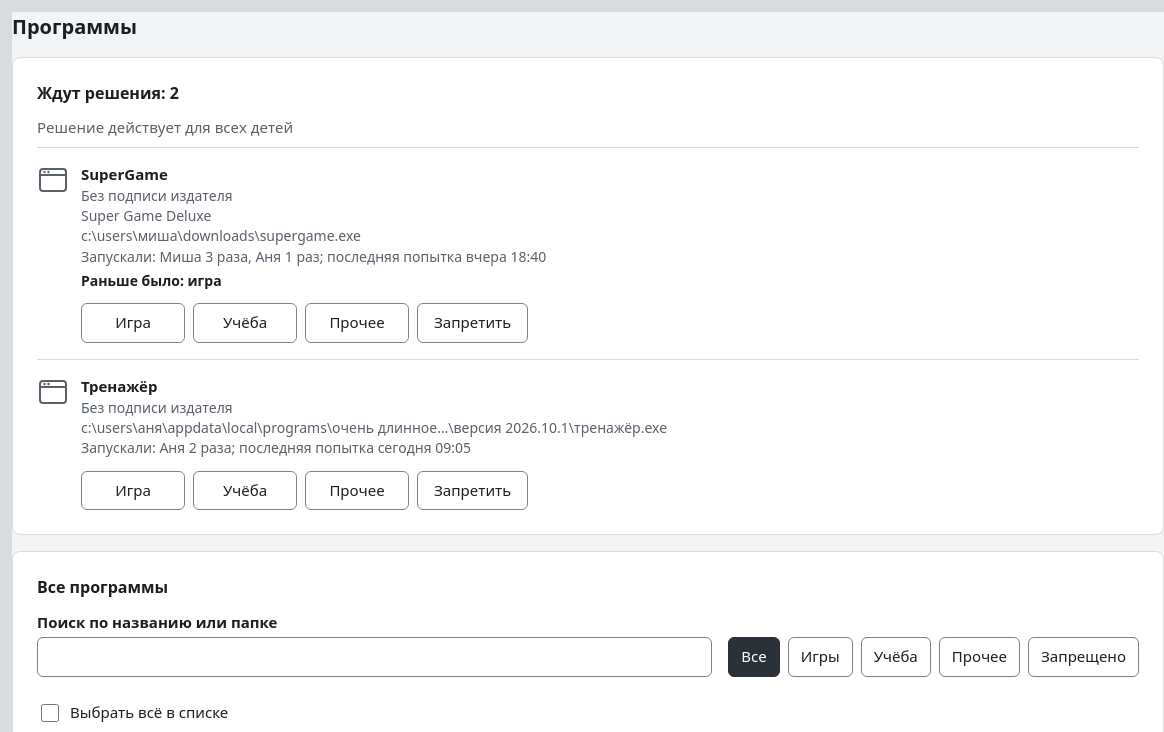
Программы: загрузка и ошибки › решение не записалось: ошибка словами, строка остаётся в «Ждут решения»
Expected: the heading "Ждут решения: 2" is shown, [37,82,179,104]
Click the button "Игра" below "Раньше было: игра" at (133, 323), box [81,303,185,343]
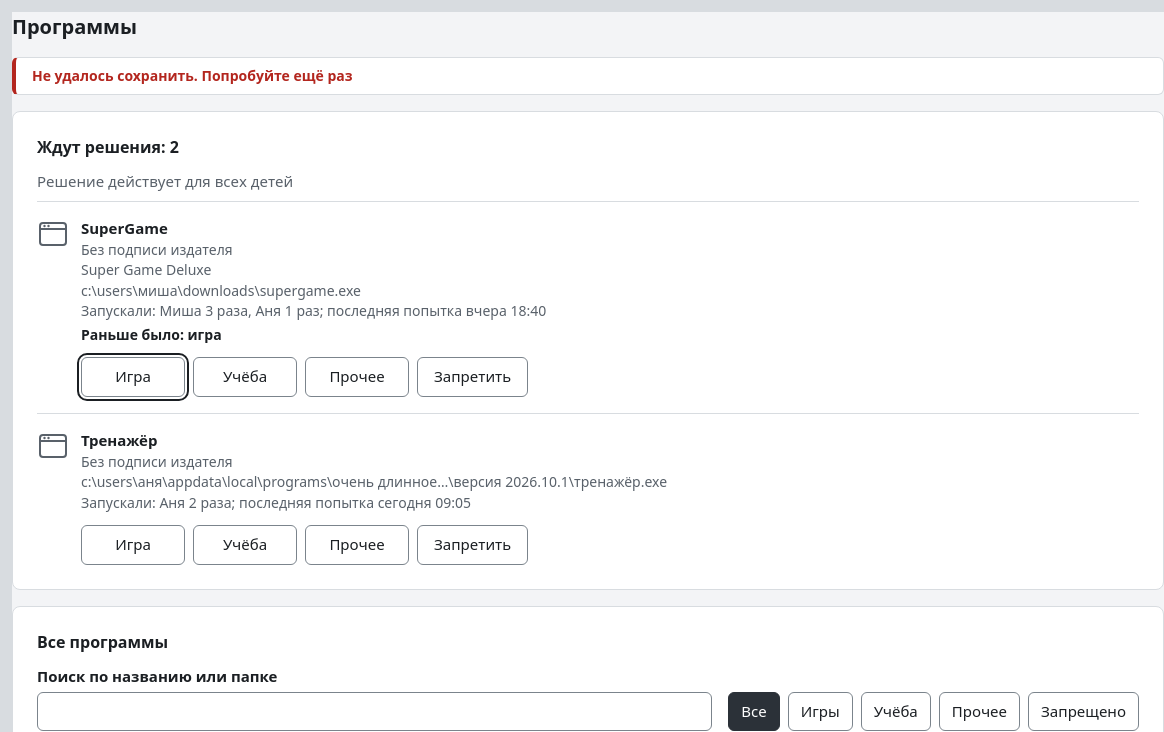
Expected: the list item "SuperGame" is shown, [37,201,1139,413]
Expected: the message reads "Не удалось сохранить. Попробуйте ещё раз", [32,66,353,85]
